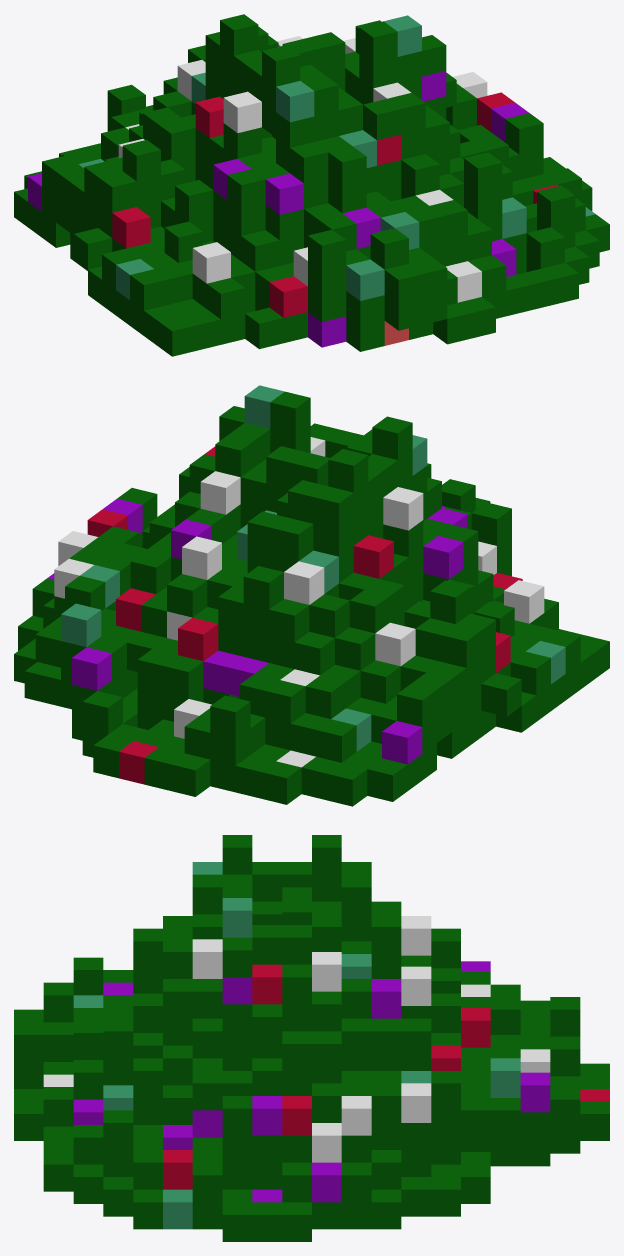
File: Arbusto.obj
3 renders of one model, top to bottom at view 1: azimuth 30°, elevation 25°; view 2: azimuth 150°, elevation 25°; view 3: azimuth 270°, elevation 25°, orthographic. The views are drawn at different scales.
Bounding box in the file's own units: 1.9 × 0.9 × 2.
1 material, 1 textured.
